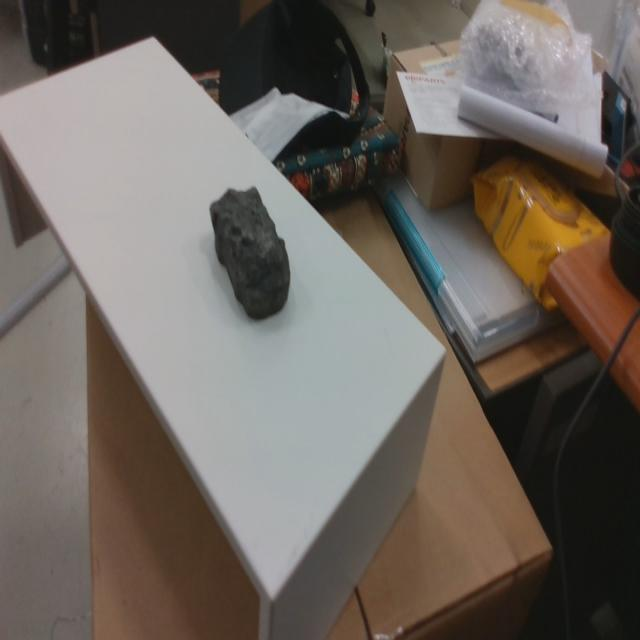stone: (210, 187, 290, 321)
